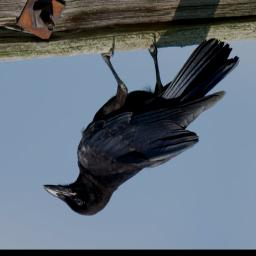Crow: (43, 38, 240, 216)
